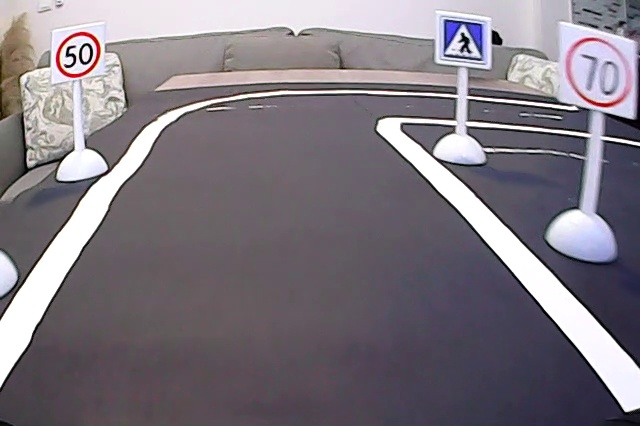pedestrian crossing: (439, 14, 489, 67)
speed limit 50: (52, 31, 105, 81)
speed limit 70: (561, 26, 634, 117)
